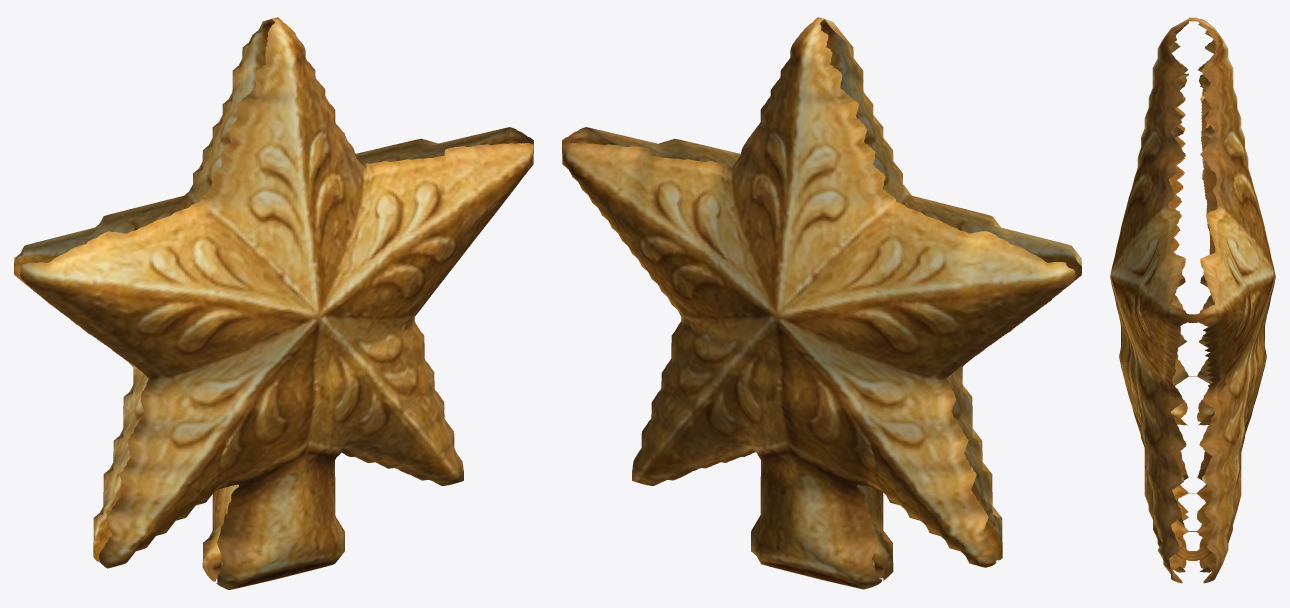
The model's file is Item_star.glb.
3 renders of one model, left to right at view 1: azimuth 30°, elevation 25°; view 2: azimuth 150°, elevation 25°; view 3: azimuth 270°, elevation 25°, orthographic. The views are drawn at different scales.
Visible parts, largest first — view 1: Item_star carving; view 2: Item_star carving; view 3: Item_star carving.
Part boxes in pixels (<box>): Item_star carving: <box>14,17,533,589</box>; Item_star carving: <box>562,17,1081,589</box>; Item_star carving: <box>1110,17,1275,583</box>.
Size of the model in its own units: 0.4355 by 0.4502 by 0.126.
1 material, 1 textured.
